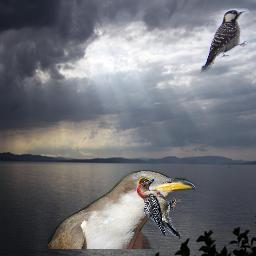Cuckoo: (48, 170, 196, 249)
Woodpecker: (197, 6, 250, 75), (136, 178, 181, 240)
